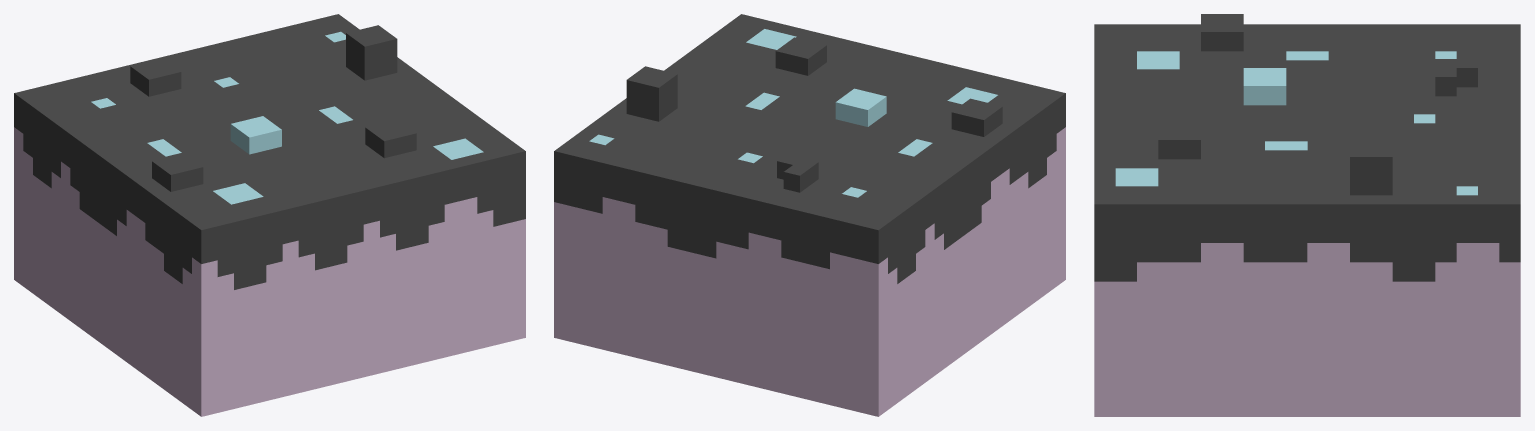
File: SnowGround.obj
3 views of the same model, side by side, from view 1: azimuth 30°, elevation 25°; view 2: azimuth 150°, elevation 25°; view 3: azimuth 270°, elevation 25° (orthographic). The views are drawn at different scales.
Size of the model in its own units: 2 by 1.3 by 2.
